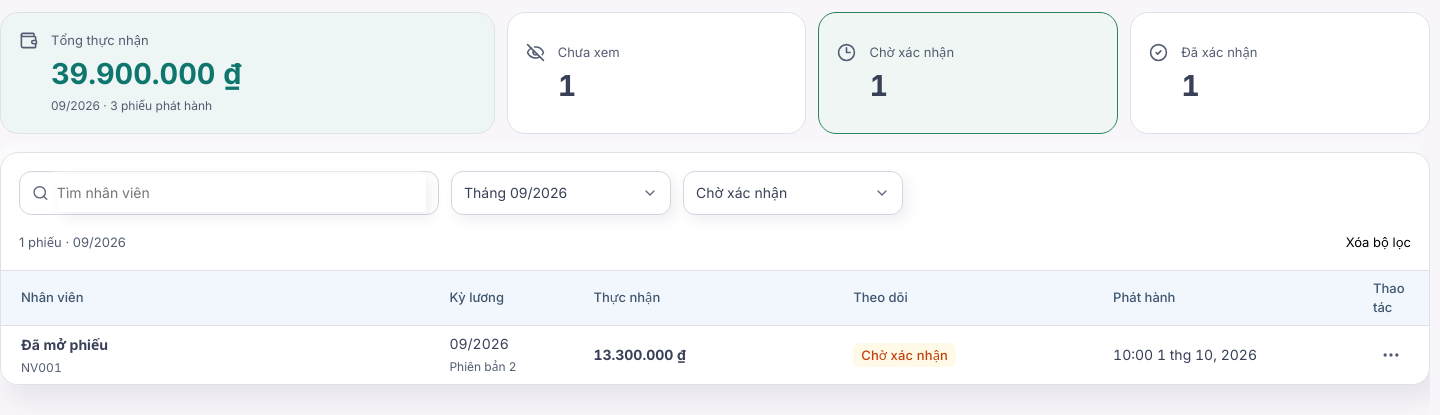
payslip worklist › opens dashboard receipt filters without mixing unseen and viewed pending slips
This screenshot has width=1440, height=415.
Expected: the table named "Phiếu lương hiện hành" is shown, 1,271 -> 1429,384
Expected: the number of rows is 2, 1,271 -> 1429,325; 1,325 -> 1429,384
Step 1. Click the button "Chưa xem 1" → point(589, 52), box 507,12 -> 806,134
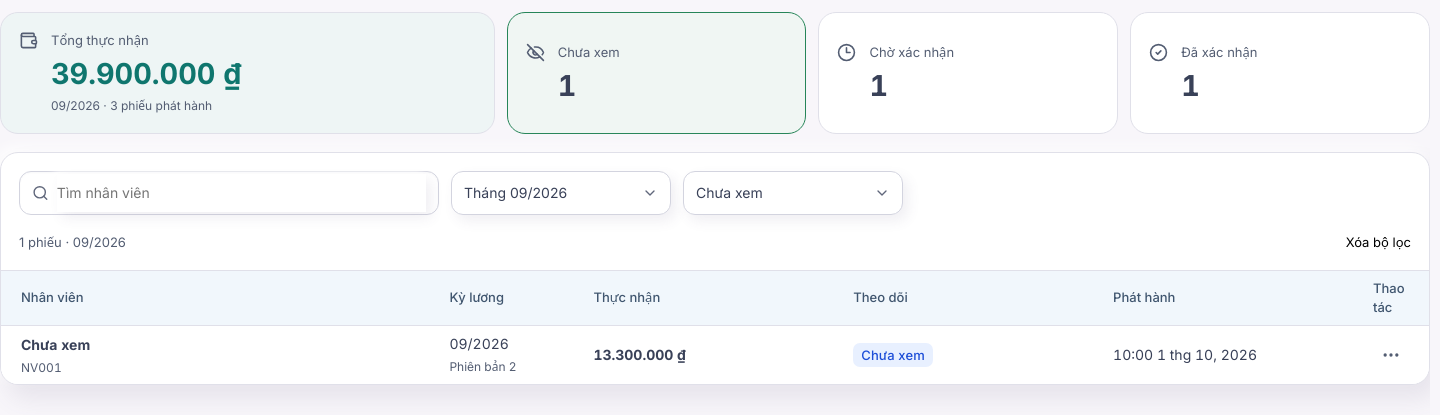
Expected: the link "Chưa xem NV001" is shown, 21,336 -> 90,375
Expected: the link "Đã mở phiếu" is gone
